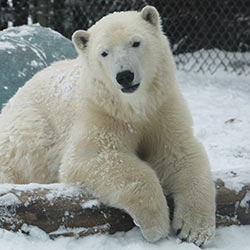Polar Bear: (7, 6, 227, 250)
